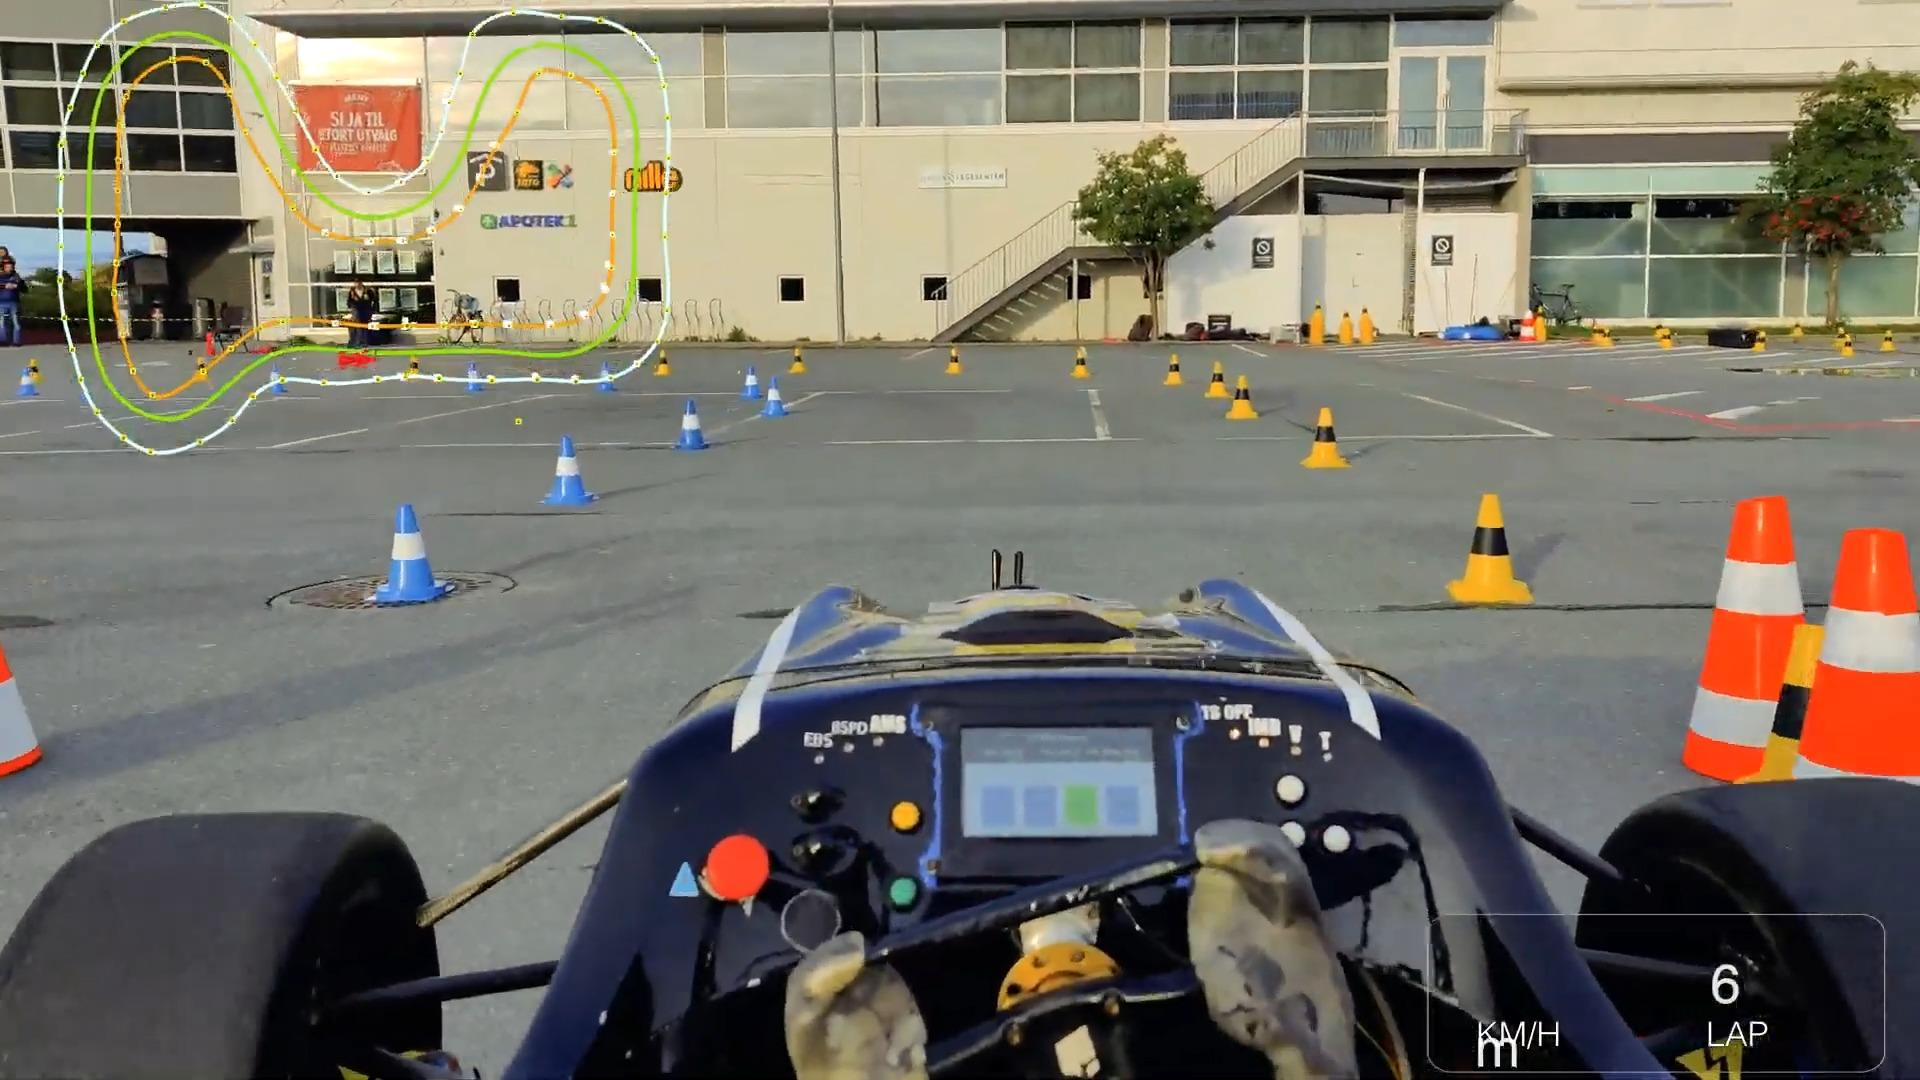blue_cone: (369, 504, 455, 601), (543, 438, 597, 505), (674, 397, 708, 448), (762, 378, 787, 417), (737, 364, 764, 398), (265, 365, 289, 396), (464, 360, 484, 390), (597, 360, 613, 390)
large_orange_cone: (1772, 526, 1920, 882), (1679, 497, 1824, 787)
yellow_cone: (1737, 621, 1857, 795), (1448, 492, 1535, 604), (1300, 406, 1352, 469), (1228, 375, 1258, 419), (1208, 361, 1229, 397), (1164, 353, 1185, 385), (1071, 348, 1092, 377), (945, 347, 965, 375), (657, 349, 673, 375), (791, 348, 806, 372)
